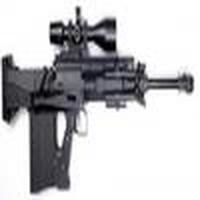gun: (1, 7, 199, 195)
